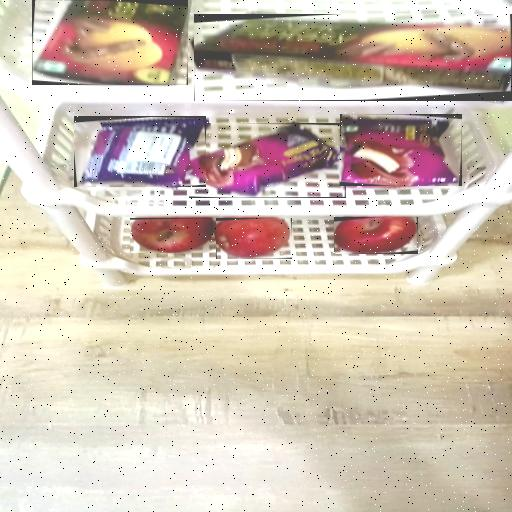Apple: (216, 218, 292, 259), (334, 217, 418, 254), (130, 218, 212, 253)
Choco Fills: (194, 14, 512, 101), (32, 0, 188, 85)
Choco Pie: (189, 123, 346, 198), (74, 116, 206, 187), (340, 114, 462, 186)
